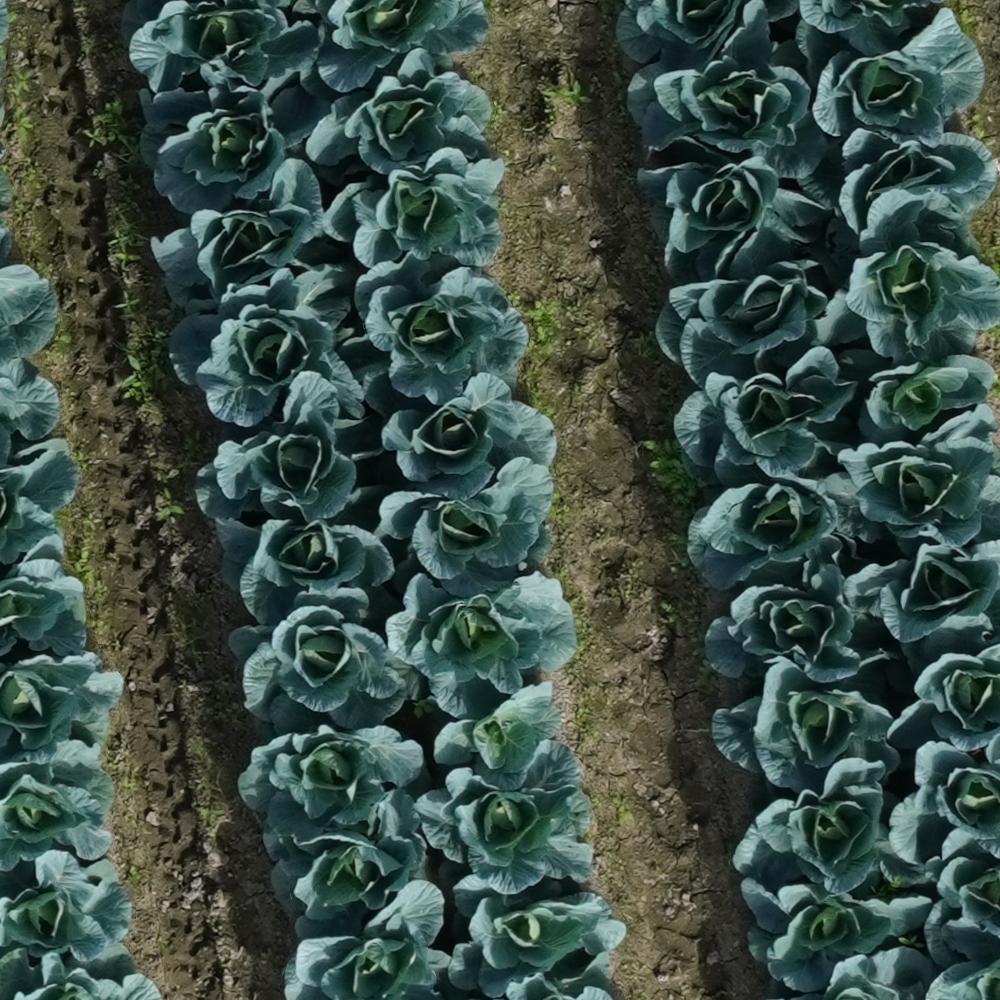Cabbage: (630, 0, 825, 175), (813, 189, 1000, 368), (168, 264, 366, 430), (385, 573, 578, 723), (340, 254, 530, 405), (138, 65, 330, 214), (194, 372, 383, 522), (413, 740, 595, 893), (704, 534, 890, 683), (796, 130, 998, 266), (656, 228, 827, 388), (825, 402, 1000, 557), (151, 159, 329, 307), (794, 8, 984, 146), (365, 367, 556, 503), (228, 588, 404, 732), (638, 156, 831, 287), (375, 456, 554, 597), (712, 661, 901, 794), (214, 486, 393, 625), (264, 790, 427, 940), (674, 346, 857, 478), (306, 49, 493, 177), (732, 759, 901, 894), (322, 145, 502, 269), (238, 724, 424, 844), (449, 875, 628, 999), (742, 877, 931, 994), (690, 440, 839, 588), (284, 878, 452, 1000), (291, 0, 488, 101), (881, 728, 1000, 888), (121, 0, 321, 93), (844, 537, 1000, 641), (837, 348, 997, 449), (0, 739, 116, 876), (887, 614, 1000, 751), (0, 850, 129, 964), (0, 652, 123, 766), (434, 681, 562, 790), (612, 0, 798, 72), (0, 420, 78, 568), (0, 536, 86, 656), (0, 944, 163, 1000), (0, 216, 60, 362), (767, 948, 934, 1000), (797, 0, 943, 57), (926, 830, 1000, 935), (925, 900, 1000, 1000), (0, 361, 60, 443), (508, 952, 612, 999)
